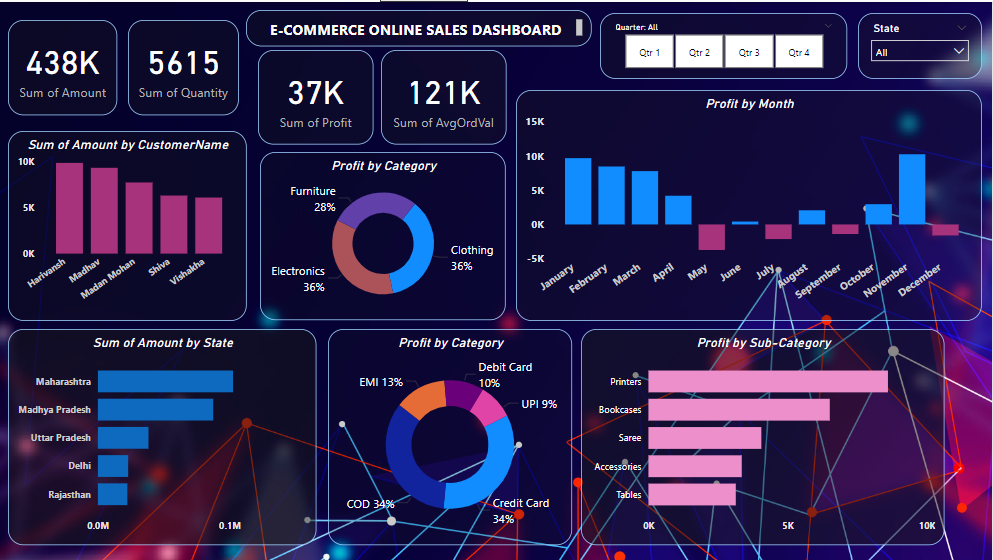

The dashboard page shown, as its layout file describes it:
{"tool":"powerbi","page":{"name":"Page 1","canvas":[1280,720],"ordinal":0},"visuals":[{"type":"columnChart","title":"Profit by Month","fields":{"Y":["Details.Profit"],"Category":["Orders.Order Date.Variation.Date Hierarchy.Month"]},"box":[666.1,113.4,600.9,297.6],"z":0},{"type":"barChart","title":"Profit by Sub-Category","fields":{"Category":["Details.Sub-Category"],"Y":["Details.Profit"]},"box":[749.8,422.4,469.1,279.2],"z":1000},{"type":"donutChart","title":"Profit by Category","fields":{"Category":["Details.Category"],"Y":["Details.Profit"]},"box":[335.9,194.2,317.5,216.9],"z":2000},{"type":"donutChart","title":"Profit by Category","fields":{"Category":["Details.PaymentMode"],"Y":["Details.Profit"]},"box":[423.8,422.4,314.6,279.2],"z":3000},{"type":"card","fields":{"Values":["Details.Amount"]},"box":[10.1,23.5,141.1,122.6],"z":4000},{"type":"card","fields":{"Values":["Details.Quantity"]},"box":[164.6,23.5,142.8,122.6],"z":5000},{"type":"card","fields":{"Values":["Details.Profit"]},"box":[333.1,62.4,148.8,121.9],"z":6000},{"type":"card","fields":{"Values":["Details.AvgOrdVal"]},"box":[491.8,62.4,161.6,121.9],"z":7000},{"type":"barChart","title":"Sum of Amount by State","fields":{"Category":["Orders.State"],"Y":["Details.Amount"]},"box":[10.1,421.6,398.1,278.8],"z":8000},{"type":"columnChart","fields":{"Category":["Orders.CustomerName"],"Y":["Details.Amount"]},"box":[9.9,165.8,307.6,245.2],"z":9000},{"type":"textbox","box":[317.5,9.9,446.5,46.8],"z":10000},{"type":"slicer","fields":{"Values":["Orders.Order Date.Variation.Date Hierarchy.Quarter"]},"box":[773.9,14.2,318.9,85],"z":11000},{"type":"slicer","fields":{"Values":["Orders.State"]},"box":[1106.9,14.2,160.2,85],"z":12000}]}

Visuals, with their boxes in screenshot pixels (x1, y1, x2, y2), scaled from the page's 1280x720 canvas onto the 993x560 screenshot:
"Profit by Month" columnChart: bbox(517, 88, 983, 320)
"Profit by Sub-Category" barChart: bbox(582, 329, 946, 546)
"Profit by Category" donutChart: bbox(261, 151, 507, 320)
"Profit by Category" donutChart: bbox(329, 329, 573, 546)
card - Details.Amount: bbox(8, 18, 117, 114)
card - Details.Quantity: bbox(128, 18, 238, 114)
card - Details.Profit: bbox(258, 49, 374, 143)
card - Details.AvgOrdVal: bbox(382, 49, 507, 143)
"Sum of Amount by State" barChart: bbox(8, 328, 317, 545)
columnChart - Orders.CustomerName x Details.Amount: bbox(8, 129, 246, 320)
textbox: bbox(246, 8, 593, 44)
slicer - Orders.Order Date.Variation.Date Hierarchy.Quarter: bbox(600, 11, 848, 77)
slicer - Orders.State: bbox(859, 11, 983, 77)
